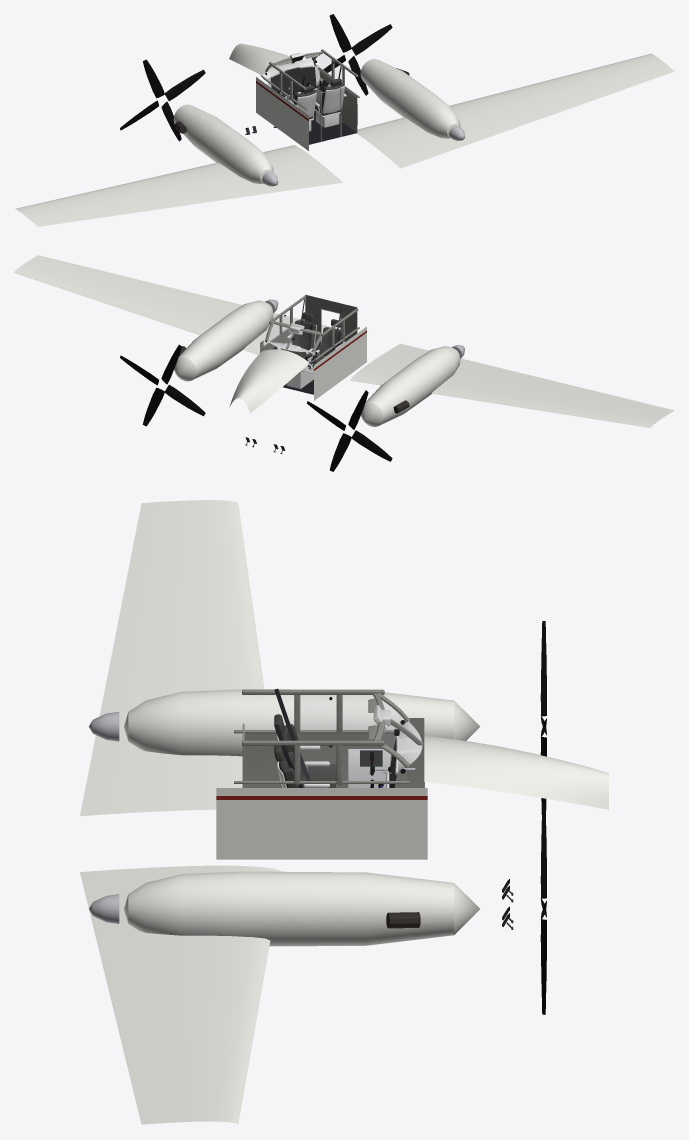
File: b200-cockpit.glb
3 renders of one model, top to bottom at view 1: azimuth 30°, elevation 25°; view 2: azimuth 150°, elevation 25°; view 3: azimuth 270°, elevation 25°, orthographic. The views are drawn at different scales.
Parts seen in each view (by area): view 1: exterior, shell, panel_face; view 2: exterior, shell; view 3: exterior, shell.
Part boxes in pixels (x1=…): exterior: x1=15, y1=14, x2=674, y2=226; shell: x1=260, y1=49, x2=359, y2=144; panel_face: x1=270, y1=67, x2=316, y2=95; exterior: x1=14, y1=255, x2=674, y2=471; shell: x1=260, y1=294, x2=359, y2=394; exterior: x1=80, y1=500, x2=608, y2=1124; shell: x1=234, y1=688, x2=424, y2=787.
Size of the model in its own units: 16.7 by 2.58 by 6.01.
34 materials, 15 textured.
